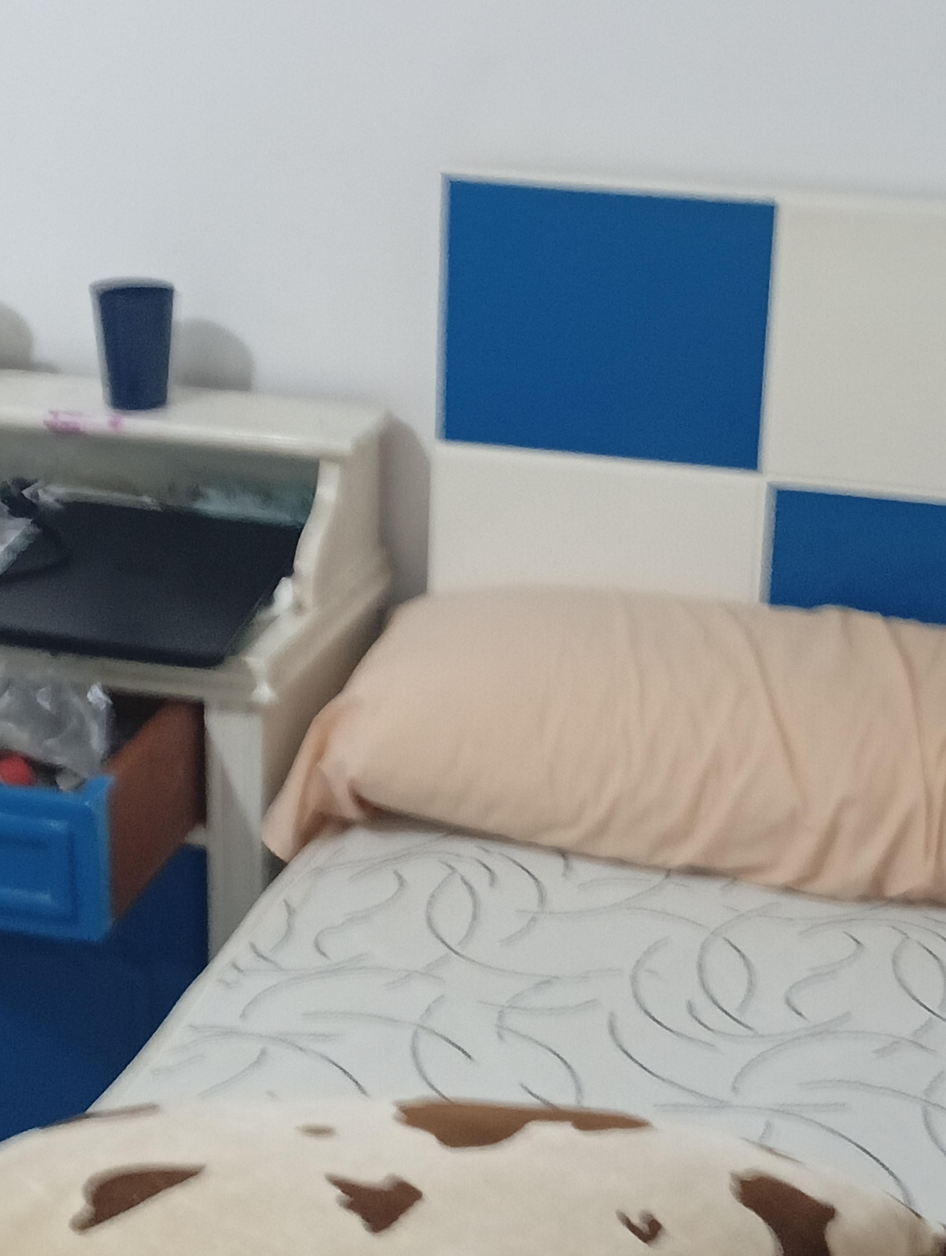cup: (90, 279, 174, 411)
